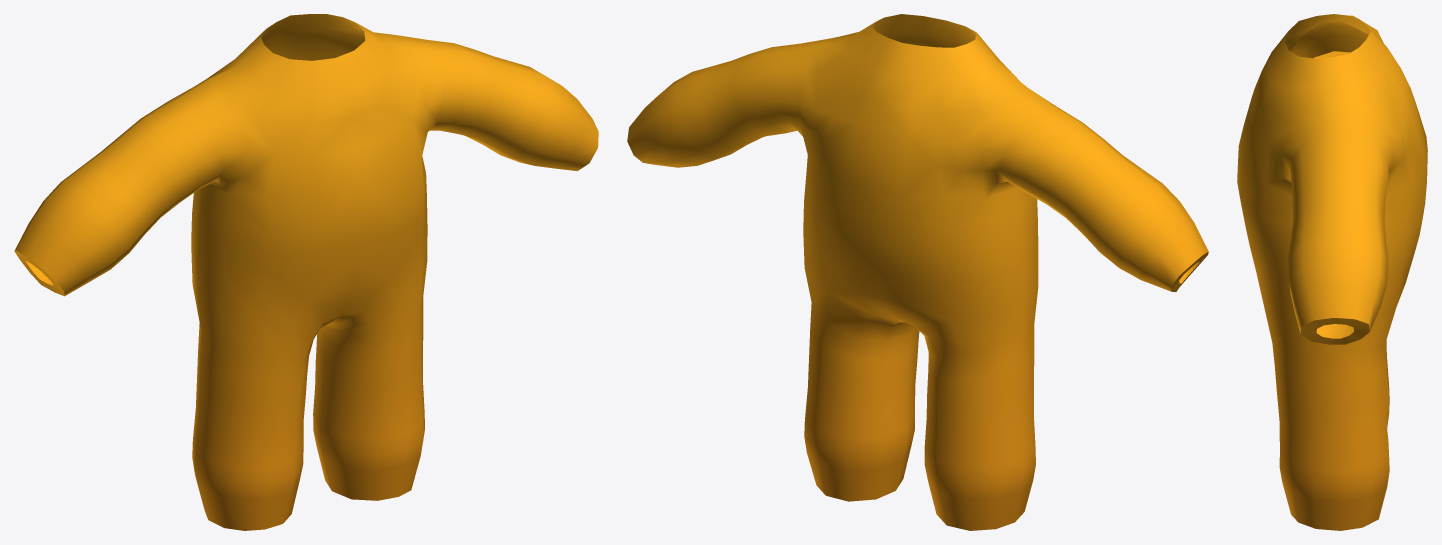
File: Costume_4_01.glb
The picture shows the model from 3 angles, left to right: view 1: azimuth 30°, elevation 25°; view 2: azimuth 150°, elevation 25°; view 3: azimuth 270°, elevation 25°; orthographic projection. The views are drawn at different scales.
Visible parts, largest first — view 1: Costume_4_01; view 2: Costume_4_01; view 3: Costume_4_01.
Boxes of the visible parts, x1,y1,x2,y2 form: Costume_4_01: [14, 14, 598, 530]; Costume_4_01: [627, 14, 1208, 530]; Costume_4_01: [1237, 14, 1427, 530].
Bounding box in the file's own units: 0.6294 × 0.4992 × 0.1902.
Materials: 1 (1 with a texture image).
